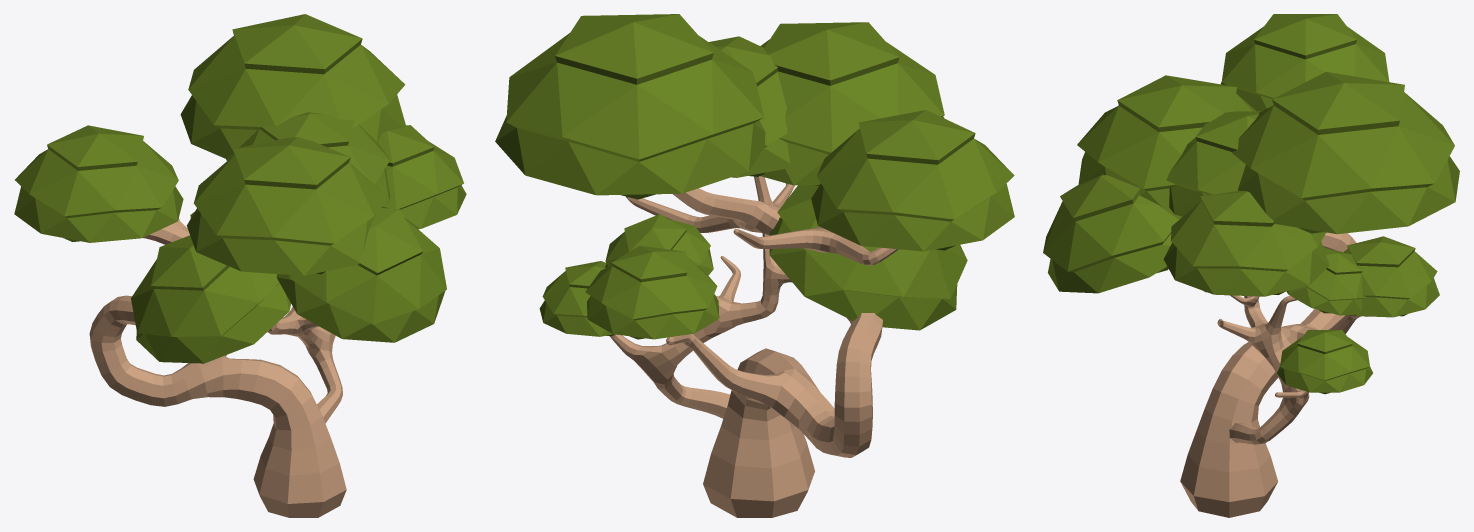
File: Raven_Tree_01.fbx
3 views of the same model, side by side, from view 1: azimuth 30°, elevation 25°; view 2: azimuth 150°, elevation 25°; view 3: azimuth 270°, elevation 25° (orthographic). The views are drawn at different scales.
Parts seen in each view (by area): view 1: Icosphere.002, Icosphere.001, Cube, Icosphere, Icosphere.006, Icosphere.008, Icosphere.004, Icosphere.005, Cube.001; view 2: Icosphere.001, Cube, Icosphere, Icosphere.002, Icosphere.006, Icosphere.003, Cube.001, Icosphere.005, Icosphere.007, Icosphere.009; view 3: Icosphere.001, Cube, Icosphere.004, Icosphere.008, Icosphere.002, Icosphere, Icosphere.003, Icosphere.005, Icosphere.007, Cube.001, Icosphere.009.
Boxes of the visible parts, x1,y1,x2,y2 form: Icosphere.002: (186, 137, 388, 275); Icosphere.001: (180, 14, 405, 158); Cube: (89, 218, 346, 517); Icosphere: (14, 125, 183, 242); Icosphere.006: (131, 235, 291, 363); Icosphere.008: (276, 208, 446, 342); Icosphere.004: (378, 125, 466, 229); Icosphere.005: (226, 112, 390, 202); Cube.001: (268, 306, 342, 423); Icosphere.001: (495, 14, 765, 199); Cube: (626, 188, 898, 517); Icosphere: (811, 110, 1014, 251); Icosphere.002: (760, 22, 944, 185); Icosphere.006: (769, 185, 967, 330); Icosphere.003: (585, 245, 719, 339); Cube.001: (610, 176, 794, 418); Icosphere.005: (709, 36, 789, 177); Icosphere.007: (539, 261, 615, 336); Icosphere.009: (605, 214, 713, 275); Icosphere.001: (1231, 71, 1459, 234); Cube: (1180, 232, 1367, 517); Icosphere.004: (1163, 191, 1329, 296); Icosphere.008: (1043, 174, 1179, 293); Icosphere.002: (1077, 75, 1256, 218); Icosphere: (1221, 14, 1389, 111); Icosphere.003: (1344, 236, 1439, 317); Icosphere.005: (1166, 111, 1261, 216); Icosphere.007: (1277, 330, 1372, 394); Cube.001: (1217, 296, 1309, 444); Icosphere.009: (1286, 247, 1366, 315).
Size of the model in its own units: 767 by 797 by 668.
